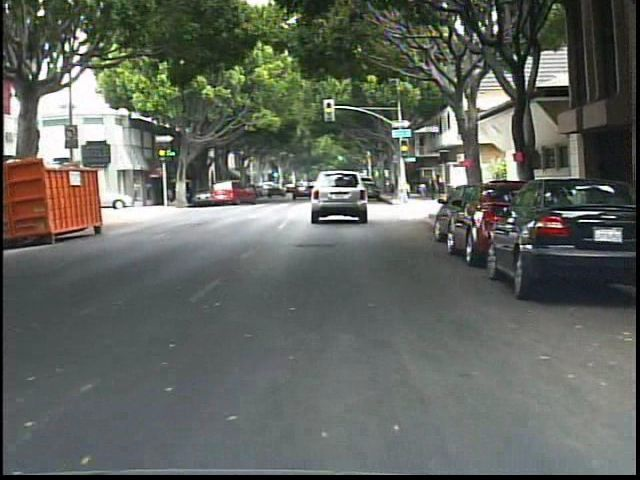person: (416, 172, 429, 201)
